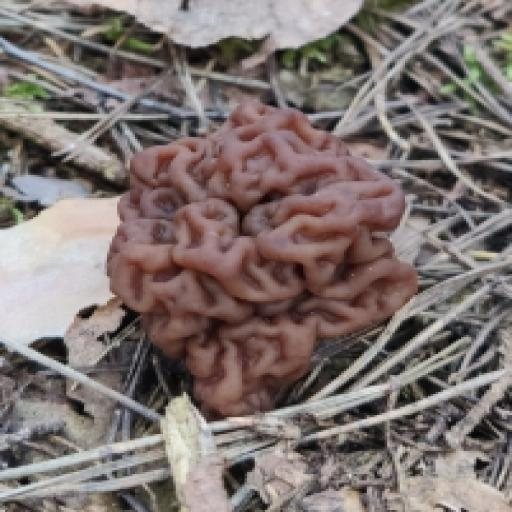mushroom: (56, 40, 458, 441)
